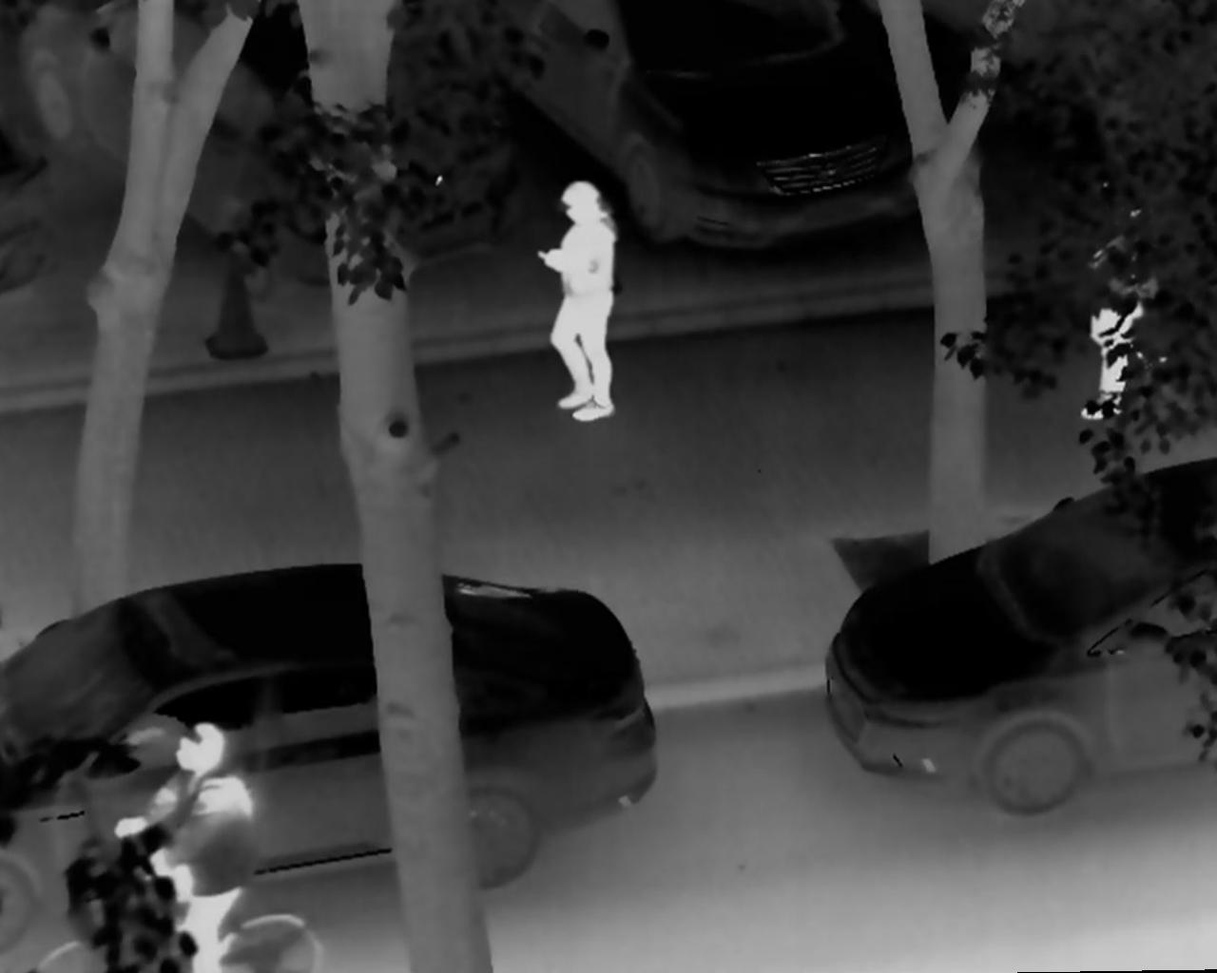person: (122, 722, 261, 973), (1072, 153, 1169, 427), (535, 177, 628, 428)
